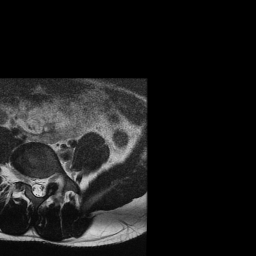CCS_normal: (35, 172, 41, 202)
LFS_normal: (47, 168, 53, 188)
LLS_normal: (41, 171, 47, 200)
RFS_normal: (22, 167, 29, 188)
RLS_normal: (29, 170, 35, 198)
